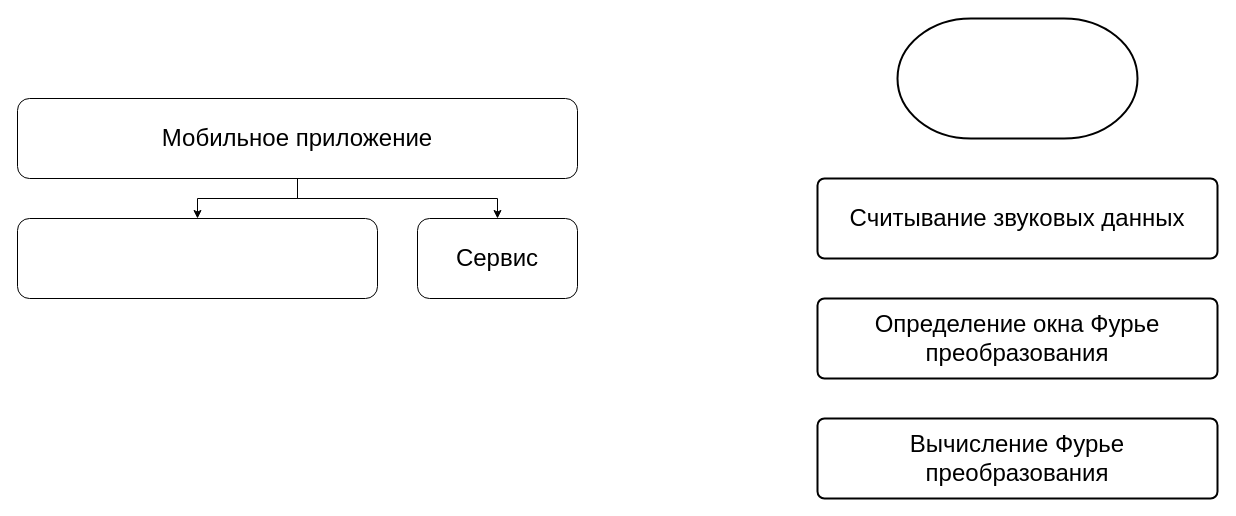
Some shapes in this 1236 by 516 pixel diagram are drawn without their labels. Here are the shapes that lost their labels. From the top down, the box of each, then its label:
(896, 17, 1138, 139): Начало
(16, 218, 378, 298): Графическое приложение
